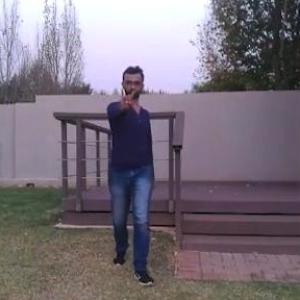takeoff-hand: (111, 80, 146, 117)
